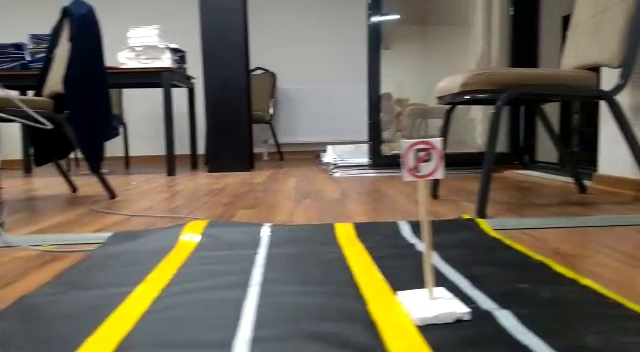park_yapilmaz: (403, 135, 442, 179)
